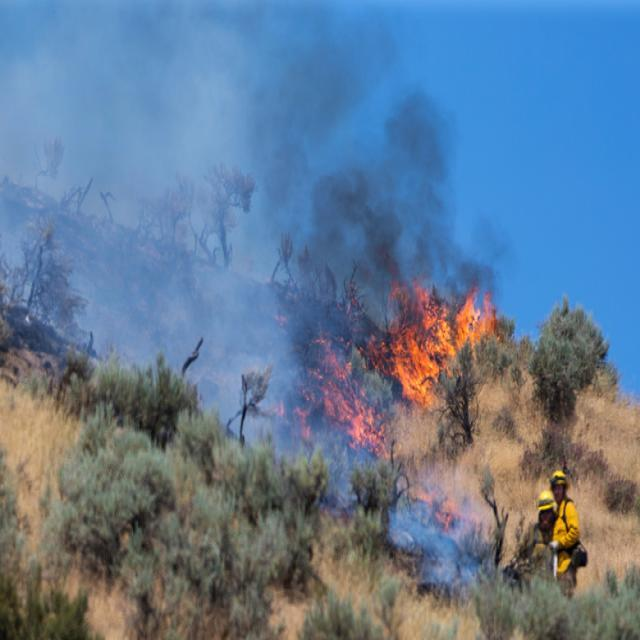Fire: (368, 282, 498, 407), (294, 338, 386, 456), (417, 492, 461, 534)
Smoke: (0, 0, 292, 455), (294, 28, 454, 282), (293, 282, 367, 339)
